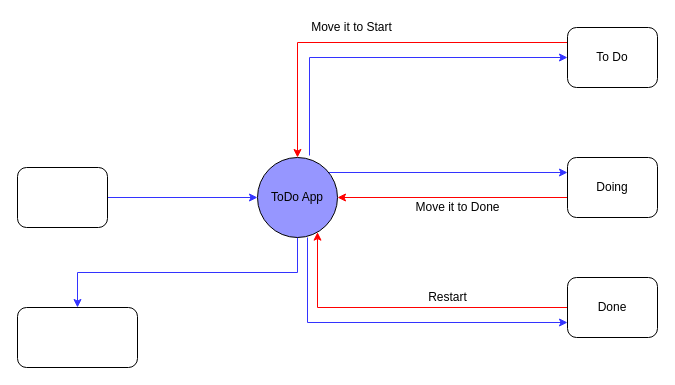
The diagram is 675 pixels wide and 385 high, and some of its shapes have lost their labels. Each missing label, with the box of its shape:
Add New Item: (16, 166, 108, 228)
All Items: (16, 306, 138, 368)
